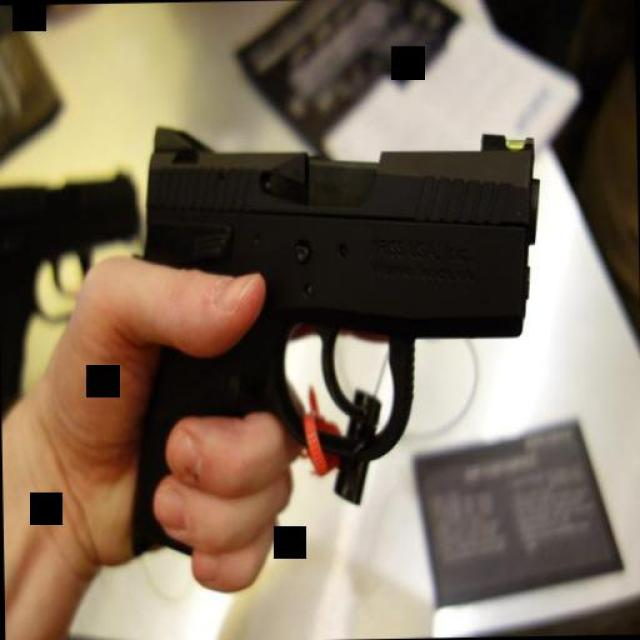gun: (117, 110, 544, 556)
